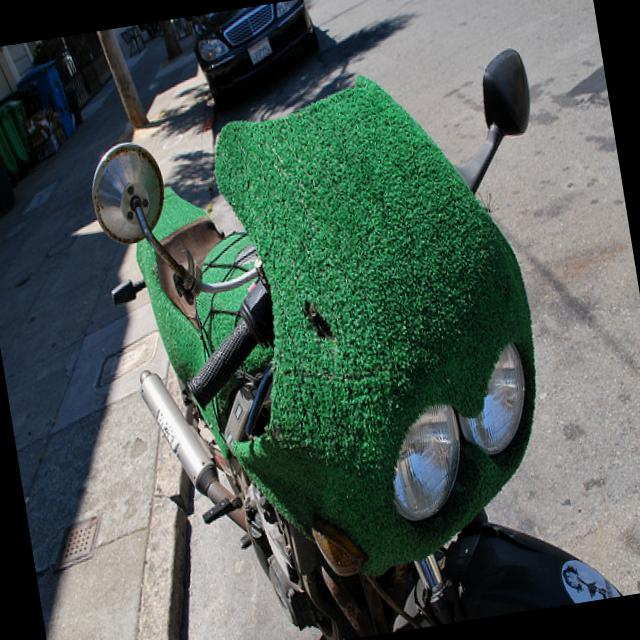Vehicle: (75, 51, 578, 640), (336, 42, 628, 628), (190, 0, 332, 122)
